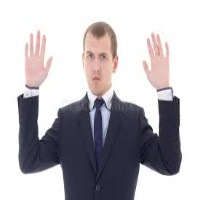ring: (156, 34, 163, 58), (29, 33, 34, 60)
